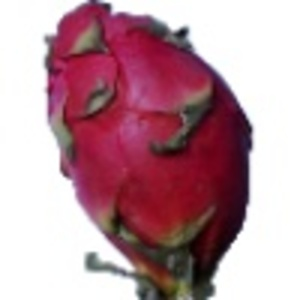pitaia: (44, 1, 255, 300)
